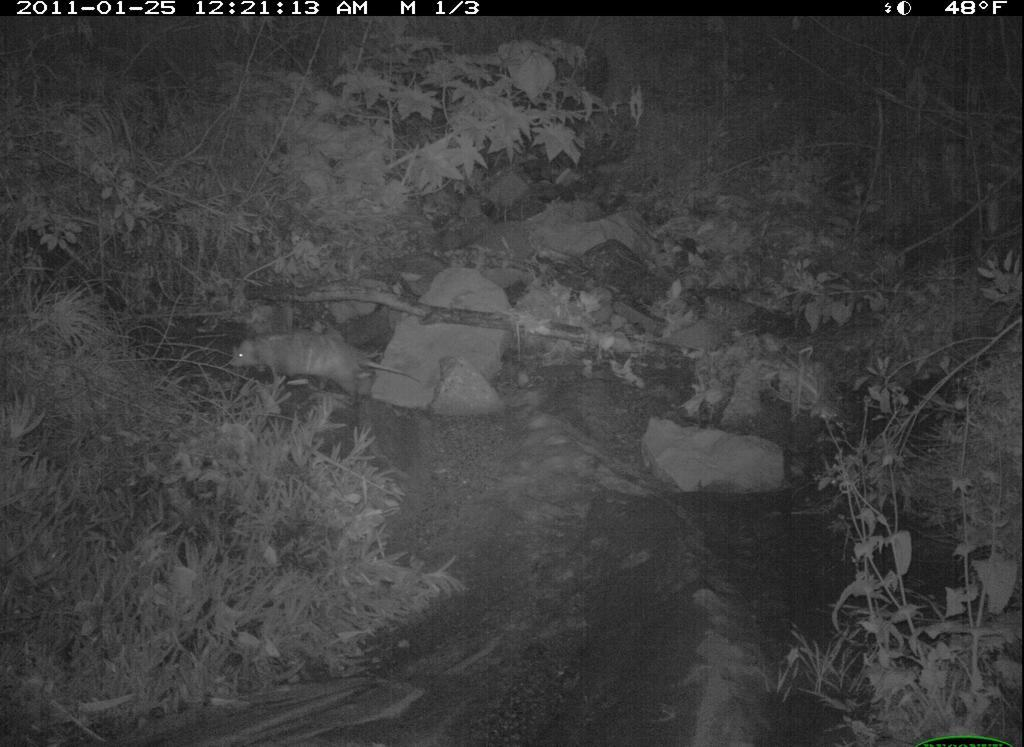opossum: (210, 315, 446, 420)
